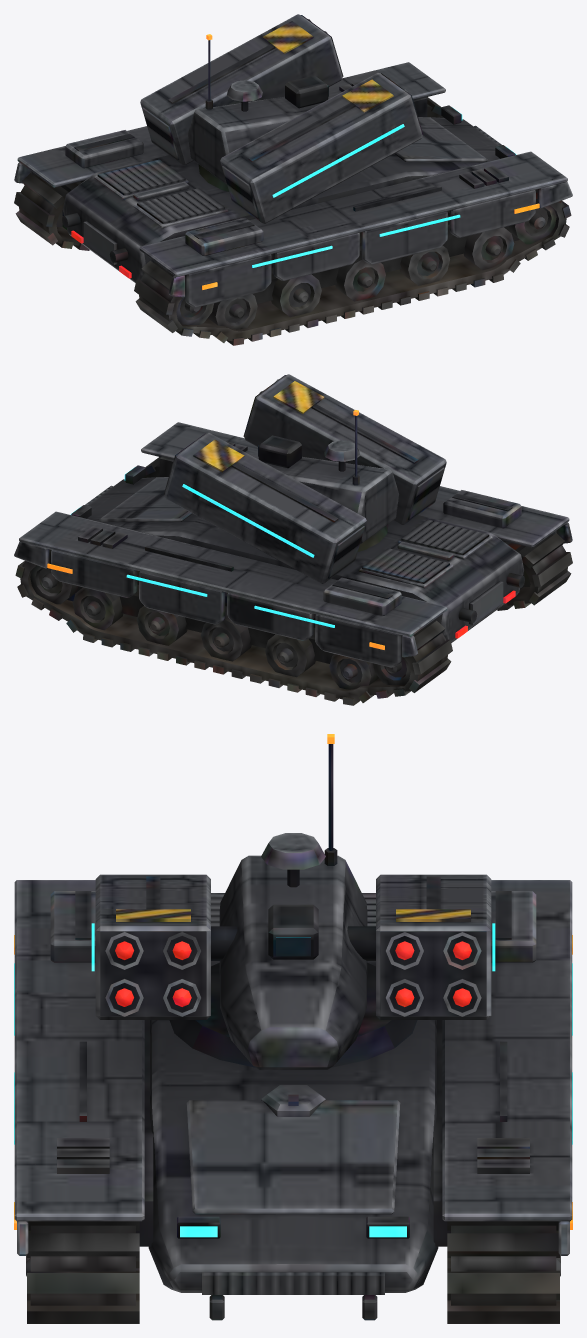
The model's file is javelin.glb.
3 renders of one model, top to bottom at view 1: azimuth 30°, elevation 25°; view 2: azimuth 150°, elevation 25°; view 3: azimuth 270°, elevation 25°, orthographic. The views are drawn at different scales.
Visible parts, largest first — view 1: Hull, Turret; view 2: Hull, Turret; view 3: Hull, Turret.
Boxes of the visible parts, <box> form: Hull: <box>14,62,572,345</box>; Turret: <box>140,14,423,223</box>; Hull: <box>14,422,572,705</box>; Turret: <box>163,374,446,583</box>; Hull: <box>14,880,572,1323</box>; Turret: <box>91,734,495,1069</box>.
Size of the model in its own units: 6.74 by 3.59 by 4.47.
1 material, 1 textured.
